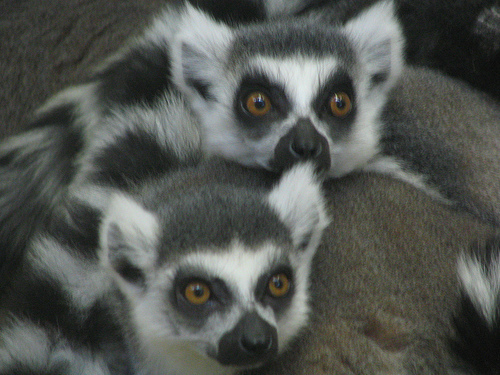cat: (27, 0, 499, 226), (97, 156, 499, 374)
